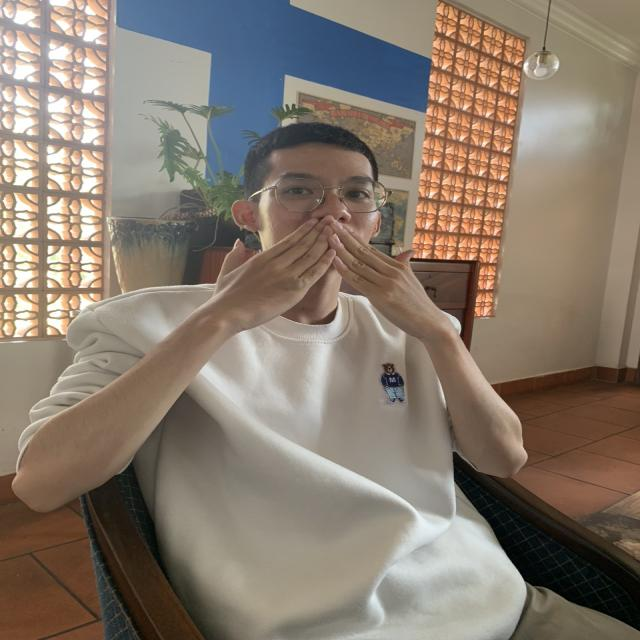thanks: (205, 214, 458, 366)
